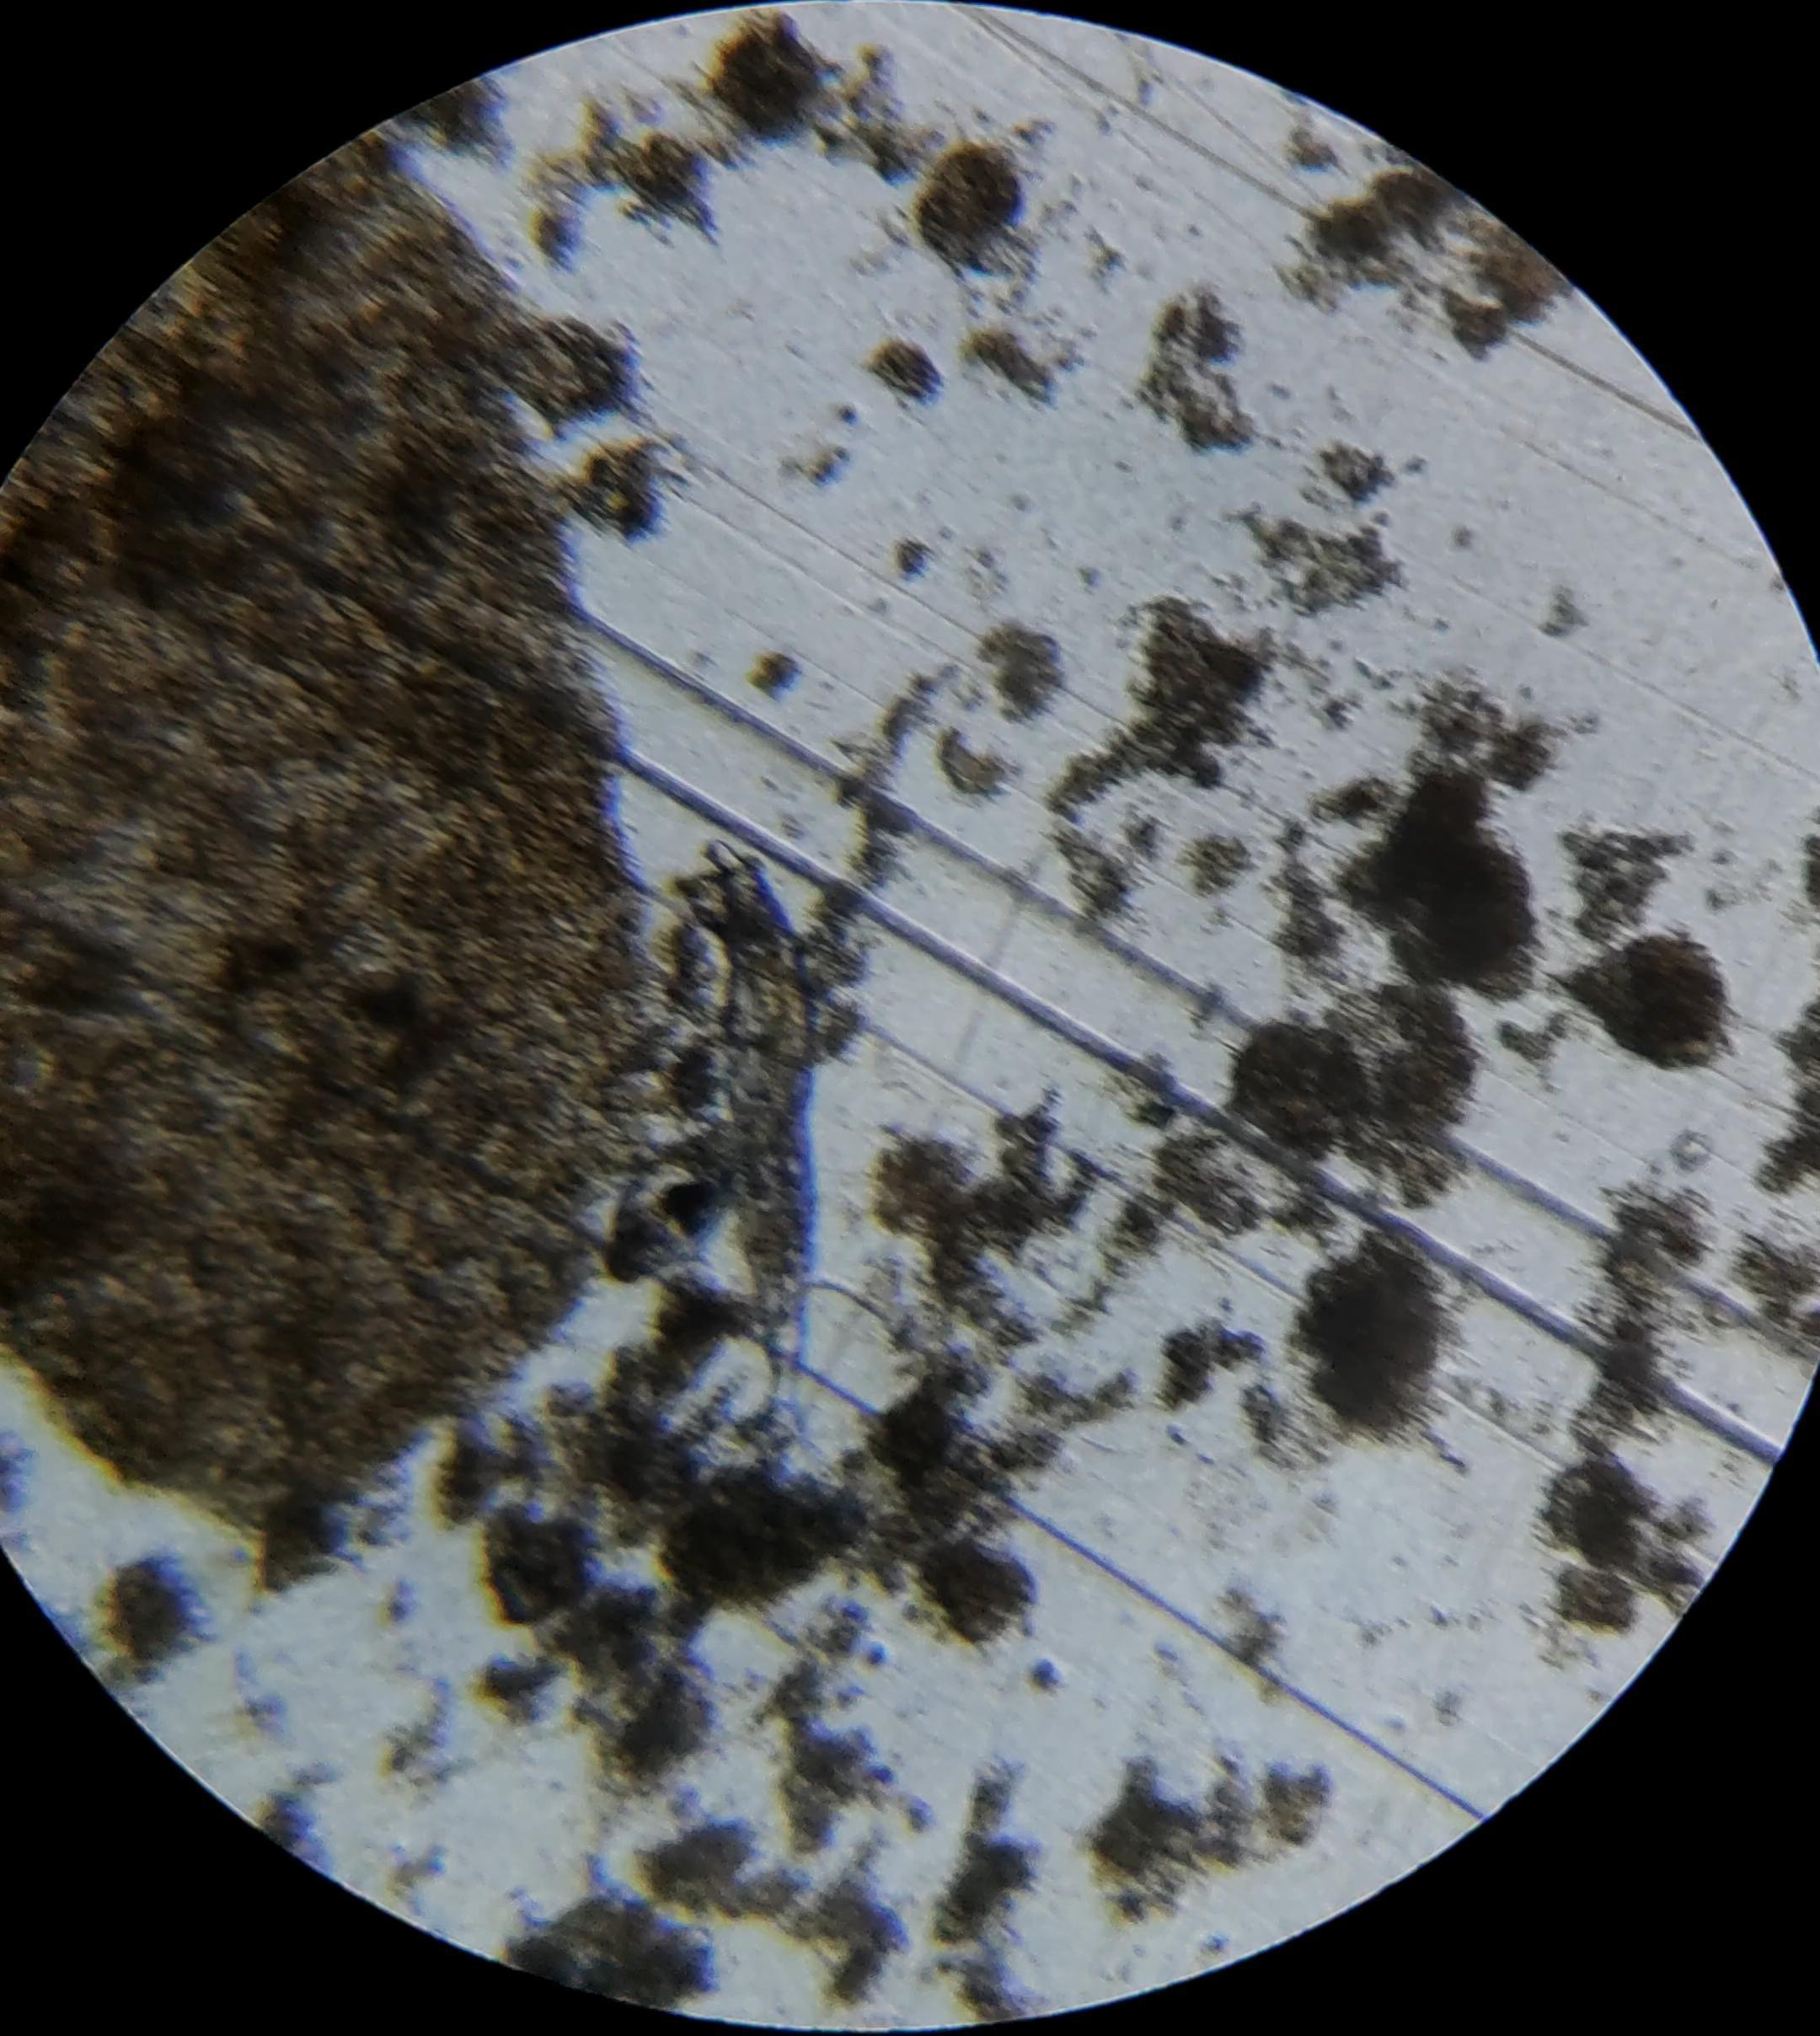Do: (675, 841, 815, 1455)
